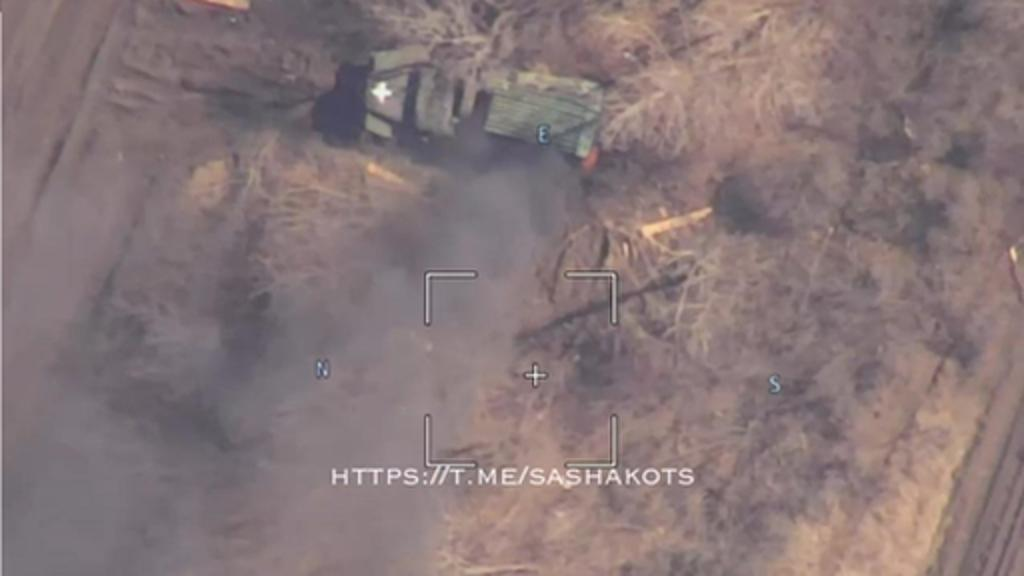MLRS: (358, 44, 604, 186)
